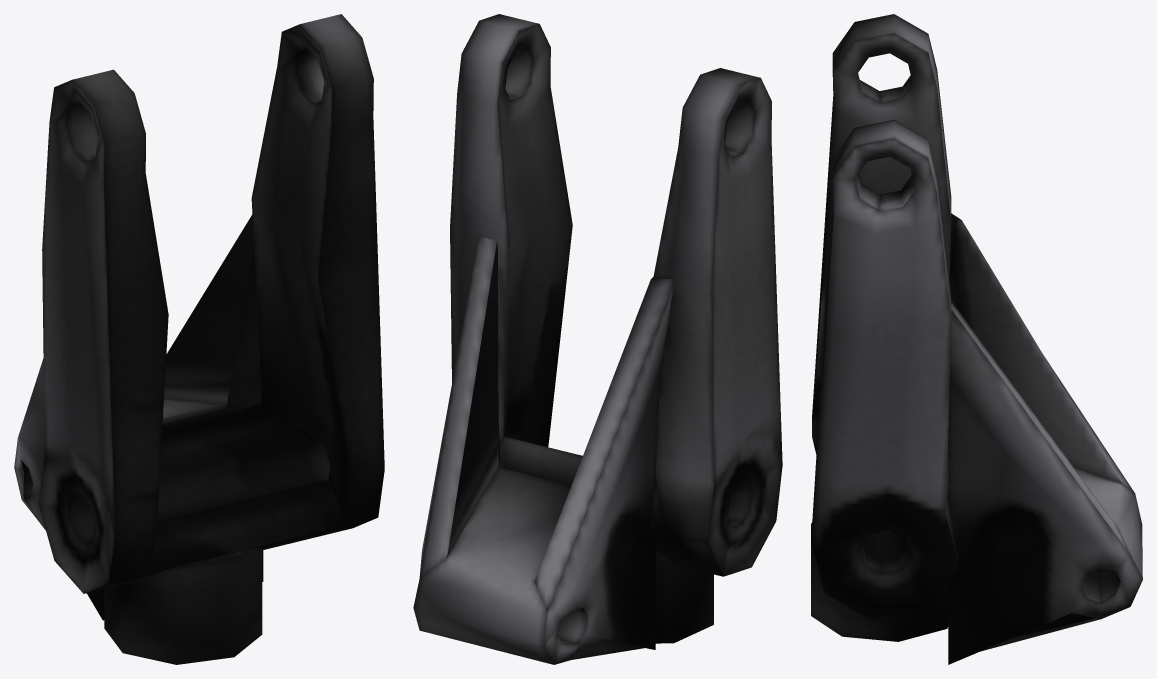
The model's file is l_uglut.dae.
The picture shows the model from 3 angles, left to right: view 1: azimuth 30°, elevation 25°; view 2: azimuth 150°, elevation 25°; view 3: azimuth 270°, elevation 25°; orthographic projection. The views are drawn at different scales.
Parts seen in each view (by area): view 1: l_uglut; view 2: l_uglut; view 3: l_uglut.
Part boxes in pixels (x1,y1,x2,y2): l_uglut: (14,14,384,664); l_uglut: (413,14,782,664); l_uglut: (811,14,1142,664).
Bounding box in the file's own units: 0.0824 × 0.0922 × 0.1684.
1 material, 1 textured.
